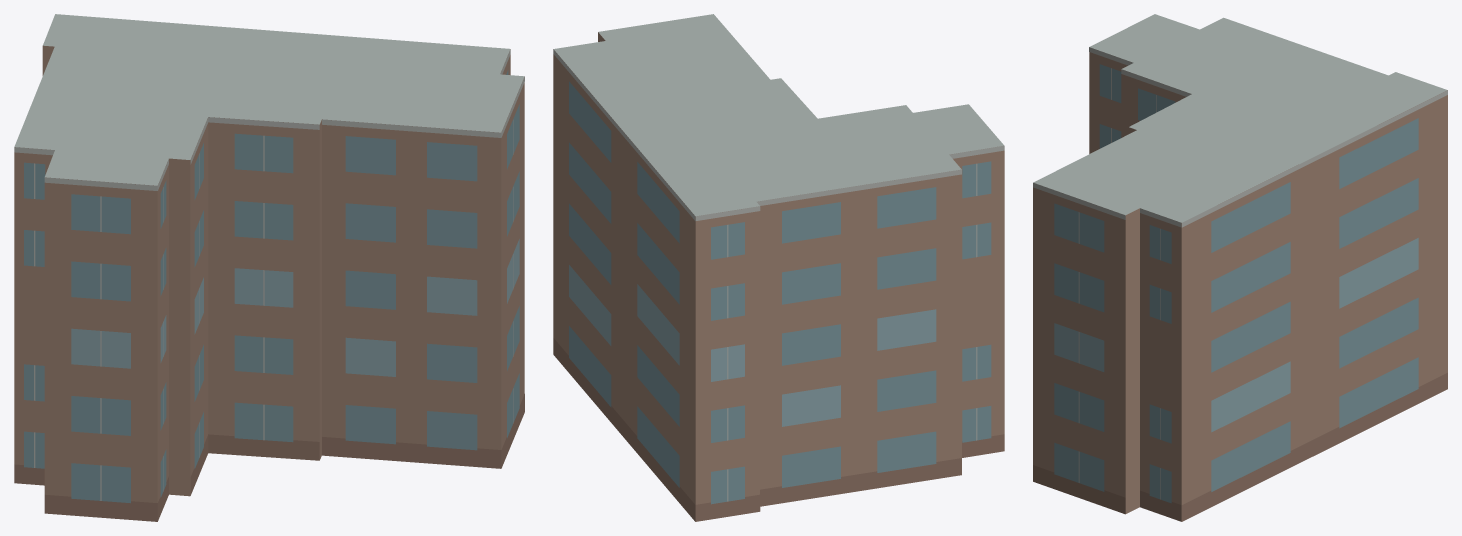
File: survey-upis-32971847.glb
3 renders of one model, left to right at view 1: azimuth 30°, elevation 25°; view 2: azimuth 150°, elevation 25°; view 3: azimuth 270°, elevation 25°, orthographic. The views are drawn at different scales.
Parts seen in each view (by area): view 1: survey-upis-32971847.tmp; view 2: survey-upis-32971847.tmp; view 3: survey-upis-32971847.tmp.
Part boxes in pixels (box(x1,y1,x2,y2)): survey-upis-32971847.tmp: box(14, 14, 524, 521); survey-upis-32971847.tmp: box(553, 14, 1004, 521); survey-upis-32971847.tmp: box(1033, 14, 1447, 521).
Size of the model in its own units: 22.77 by 15.2 by 19.11.
